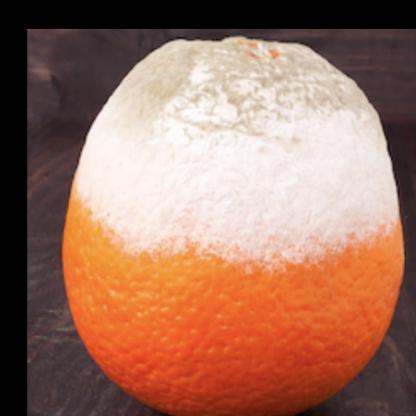rotten: (62, 37, 406, 414)
